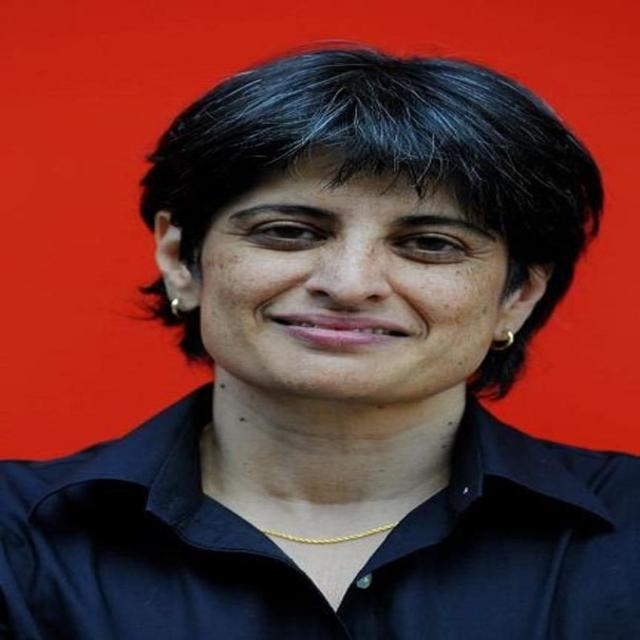nomask: (203, 140, 508, 392)
